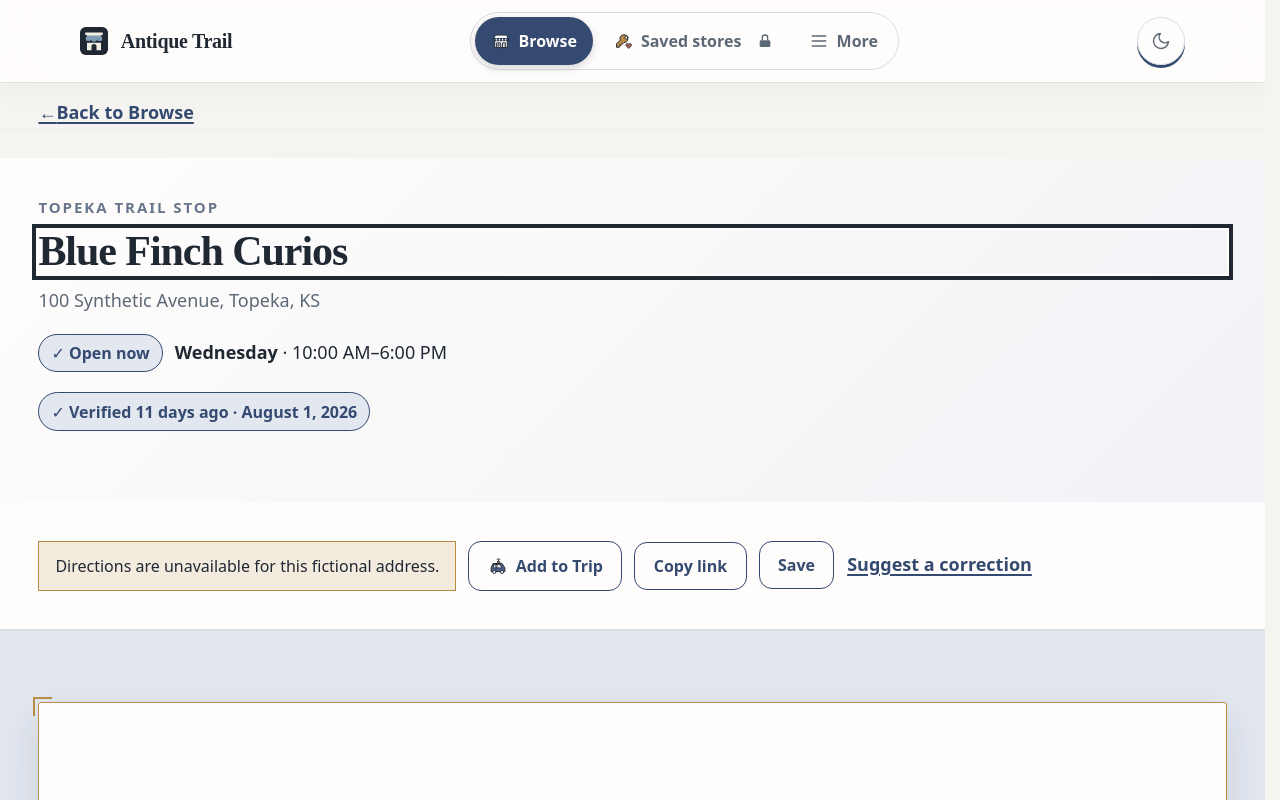
Scenario: configured Details Add to Trip entry › shows anonymous entry in a configured production build and retains the store at sign-in
Expected: the heading "Blue Finch Curios" is shown, [38, 230, 1227, 274]
Step 1. Click the link "Add to Trip" → (545, 566), box [468, 541, 622, 591]
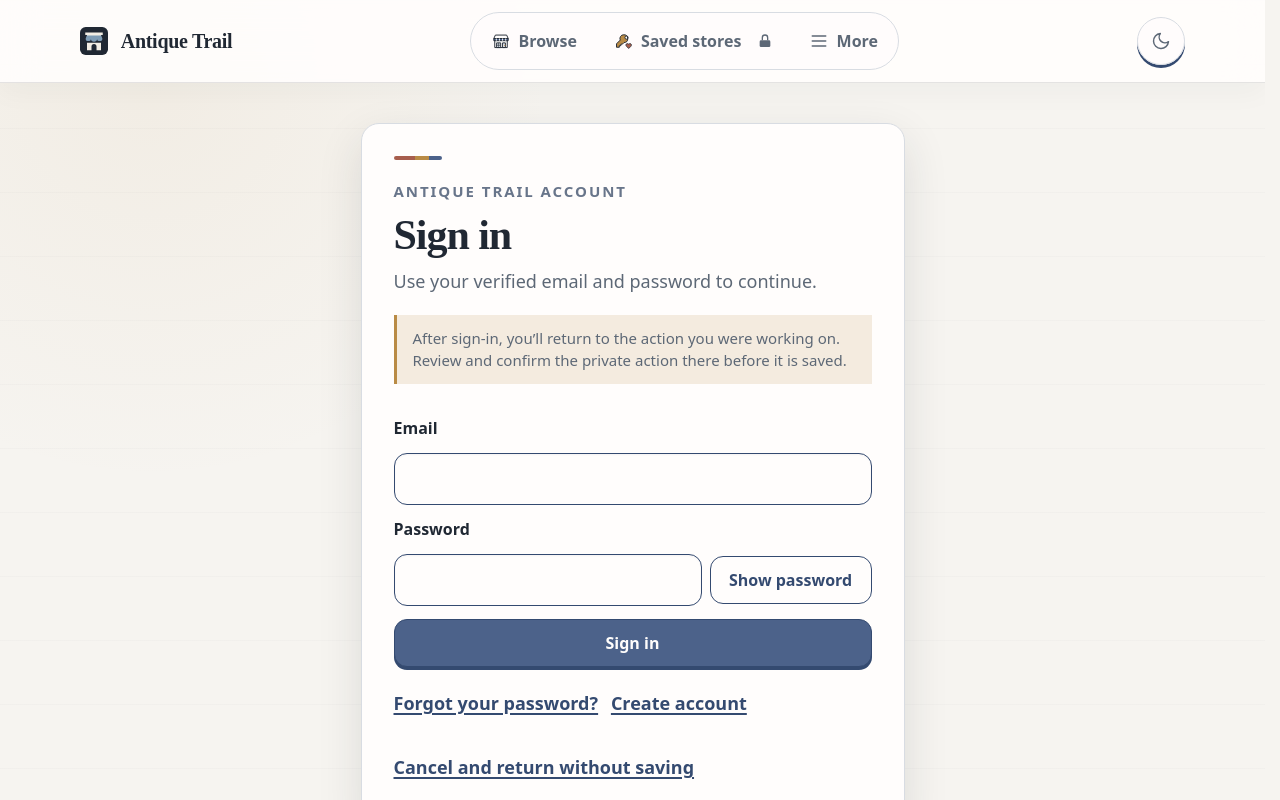
Result: the heading "Sign in" is shown at [394, 212, 511, 258]
